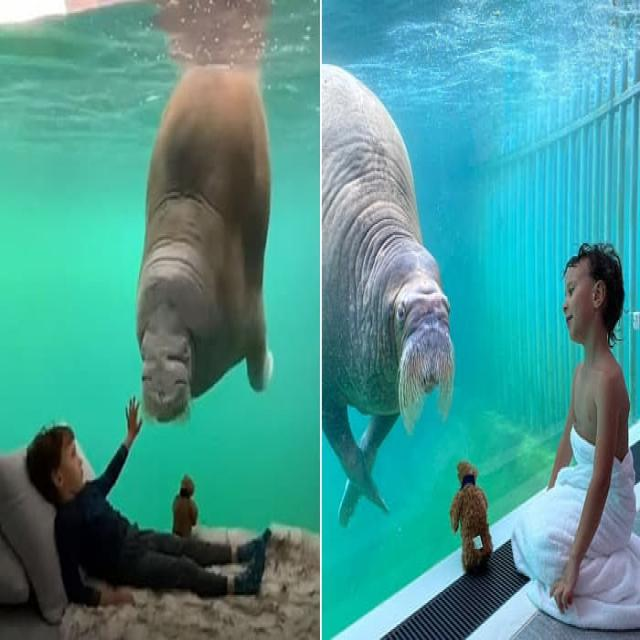walrus: (322, 58, 458, 538), (142, 64, 284, 424)
